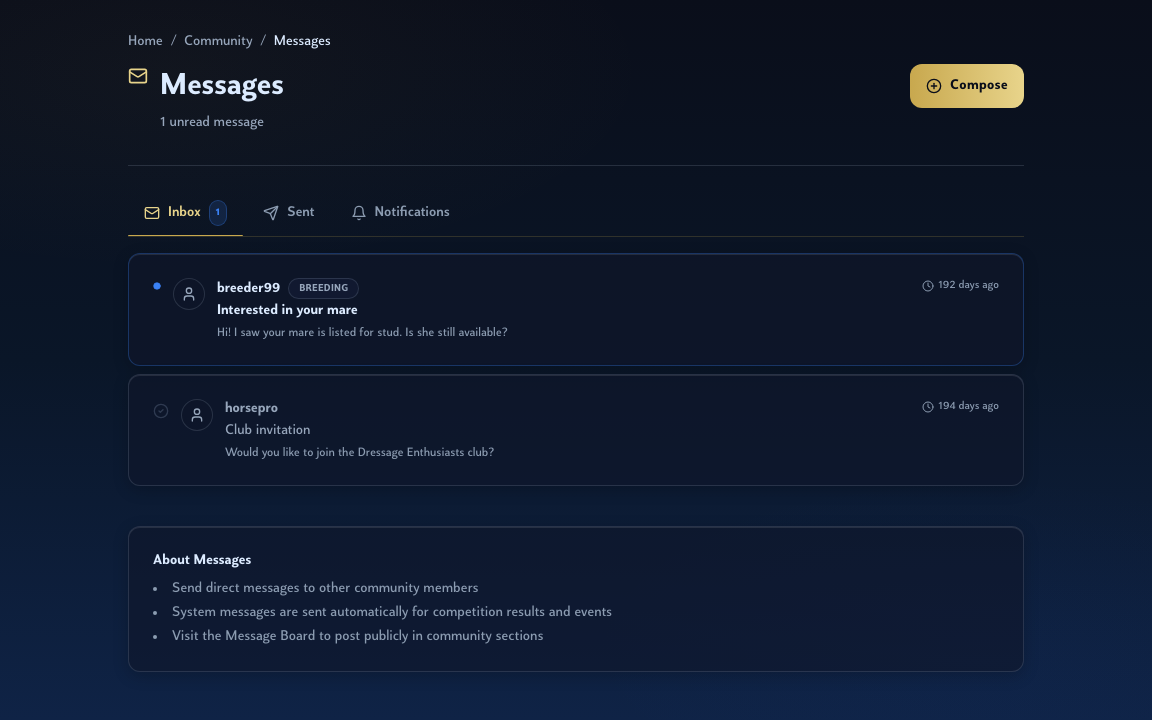
Test: MessagesPage — tab switching (Equoria-o5hub.30) › switching to Sent shows sent messages and hides inbox messages
The image size is (1152, 720).
Expected: the text "Interested in your mare" is shown, [217, 303, 358, 318]
Click the tab with test id "tab-sent": (289, 213) [247, 193, 330, 233]
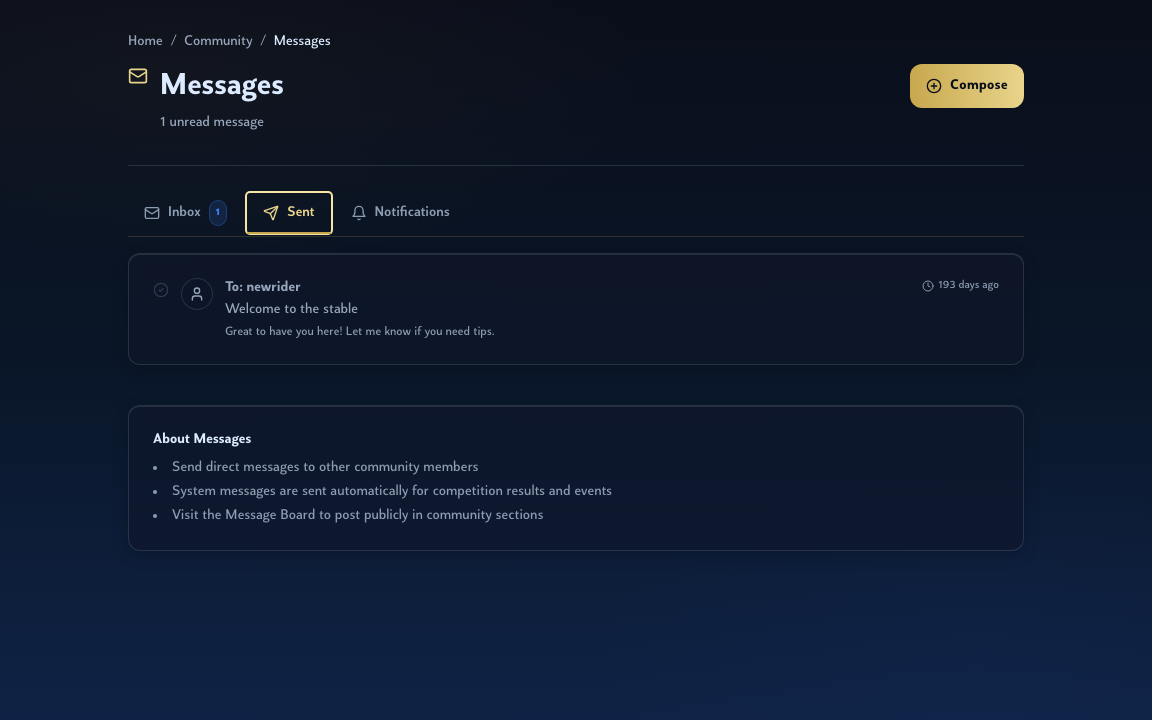
Result: the text "Welcome to the stable" is shown at [225, 302, 358, 317]
Result: the button "Interested in your mare" is gone
